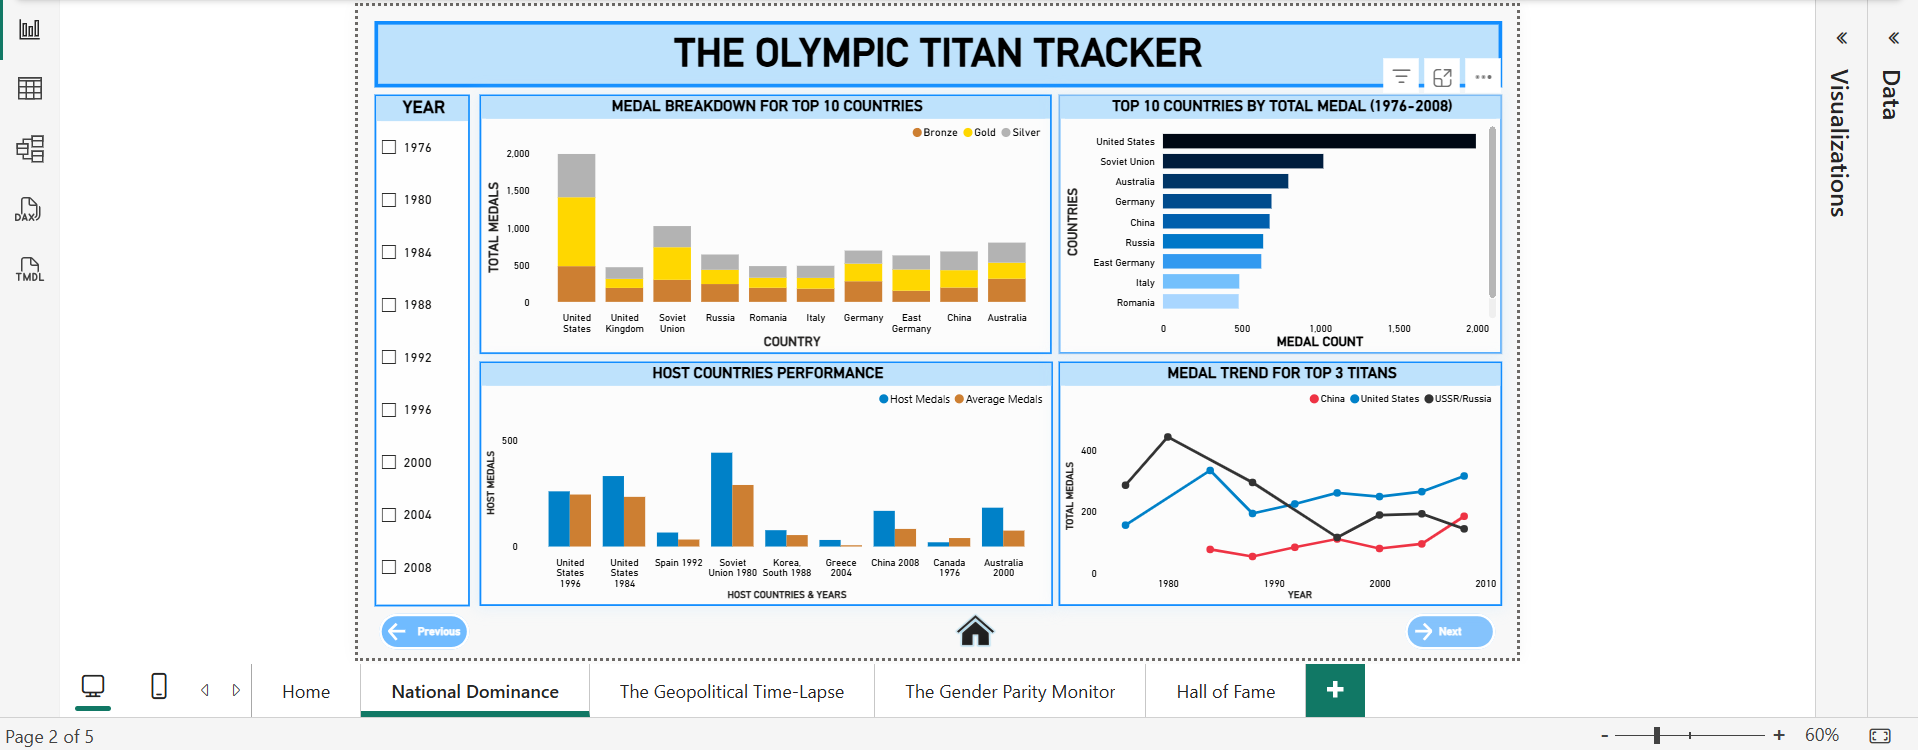

What the dashboard file says about the page in this screenshot:
{"tool":"powerbi","page":{"name":"National Dominance","canvas":[1280,720],"ordinal":1},"visuals":[{"type":"textbox","box":[18.3,16.7,1245,73.3],"z":0},{"type":"listSlicer","title":"YEAR","fields":{"Values":["Medals.Year"]},"box":[18.3,98.3,105,565],"z":1000},{"type":"columnChart","title":"MEDAL BREAKDOWN FOR TOP 10 COUNTRIES","fields":{"Category":["Medals.Country"],"Y":["Medals.Total Medals"],"Series":["Medals.Medal"]},"box":[135,98.3,631.7,286.7],"z":2000},{"type":"clusteredColumnChart","title":"HOST COUNTRIES PERFORMANCE","fields":{"Y":["Sum(Host Impact Table.Host Medals)","Sum(Host Impact Table.Average Medals)"],"Category":["Host Impact Table.Host Country","Host Impact Table.Year"]},"box":[135,393.3,633.3,270],"z":3000},{"type":"barChart","title":"TOP 10 COUNTRIES BY TOTAL MEDAL (1976-2008)","fields":{"Category":["Medals.Country"],"Y":["CountNonNull(Medals.Medal)"]},"box":[773.3,98.3,490,286.7],"z":4000},{"type":"lineChart","title":"MEDAL TREND FOR TOP 3 TITANS","fields":{"Category":["Medals.Year"],"Y":["Medals.Total Medals"],"Series":["Medals.Country_Legacy"]},"box":[773.3,393.3,490,270],"z":5000},{"type":"actionButton","box":[23.3,671.7,100,40],"z":6000},{"type":"image","box":[658.3,668.3,48.3,43.3],"z":7000},{"type":"actionButton","box":[1156.7,671.7,100,40],"z":8000}]}

Visuals, with their boxes on the page's 1280x720 design canvas (x1, y1, x2, y2). These are canvas units, not pixel positions in the 1918x750 screenshot, which may show the page scaled, cropped or inside an application window:
textbox: region(18, 17, 1263, 90)
"YEAR" listSlicer: region(18, 98, 123, 663)
"MEDAL BREAKDOWN FOR TOP 10 COUNTRIES" columnChart: region(135, 98, 767, 385)
"HOST COUNTRIES PERFORMANCE" clusteredColumnChart: region(135, 393, 768, 663)
"TOP 10 COUNTRIES BY TOTAL MEDAL (1976-2008)" barChart: region(773, 98, 1263, 385)
"MEDAL TREND FOR TOP 3 TITANS" lineChart: region(773, 393, 1263, 663)
actionButton: region(23, 672, 123, 712)
image: region(658, 668, 707, 712)
actionButton: region(1157, 672, 1257, 712)
